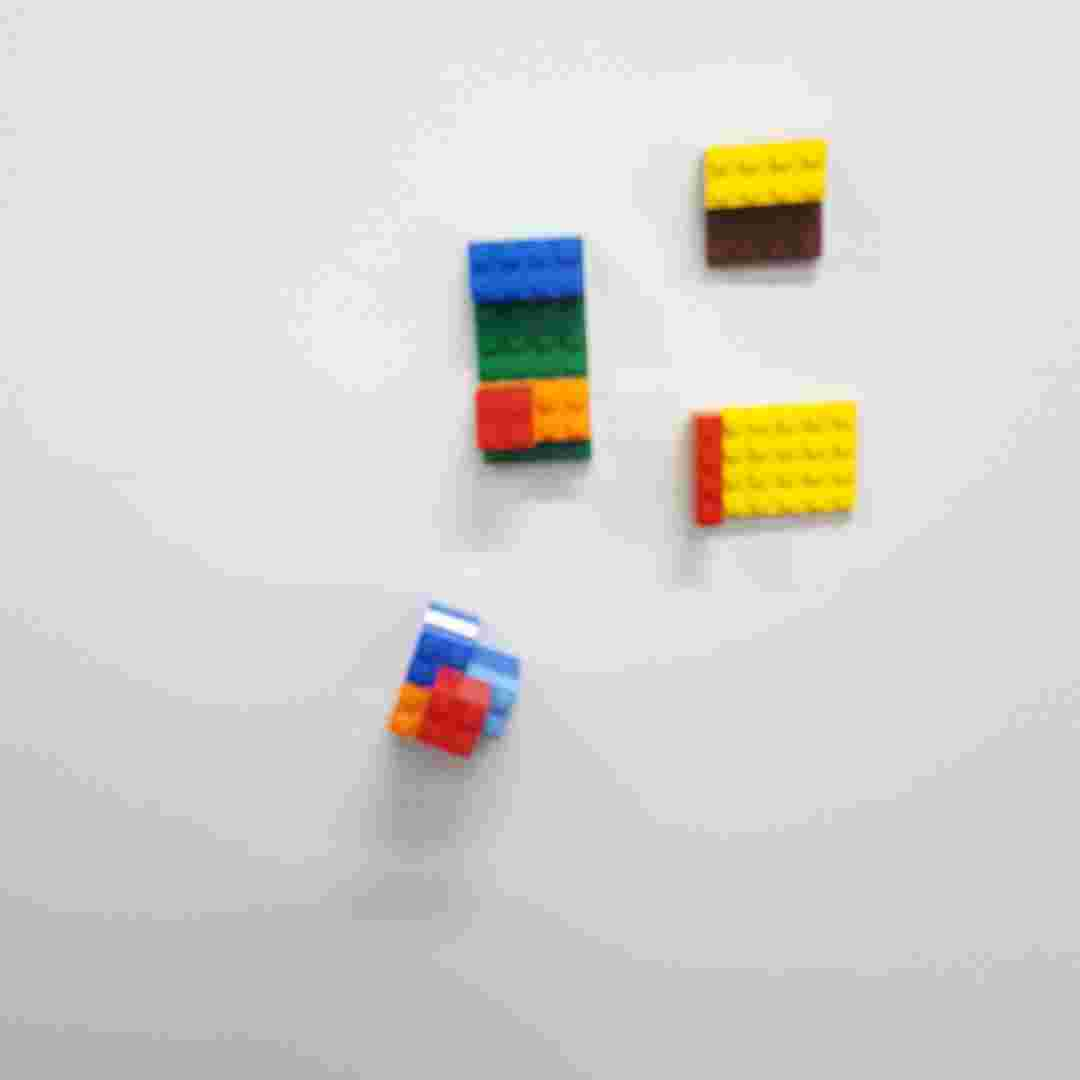LEGO: (463, 230, 601, 468), (690, 398, 865, 530), (381, 601, 524, 761), (699, 134, 829, 267)
